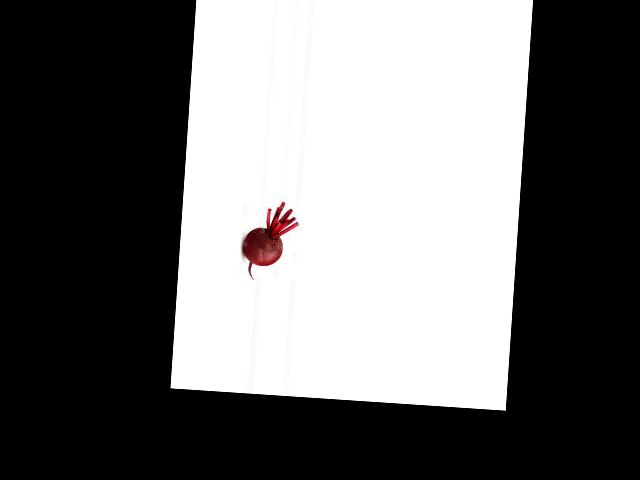beet: (241, 199, 299, 282)
